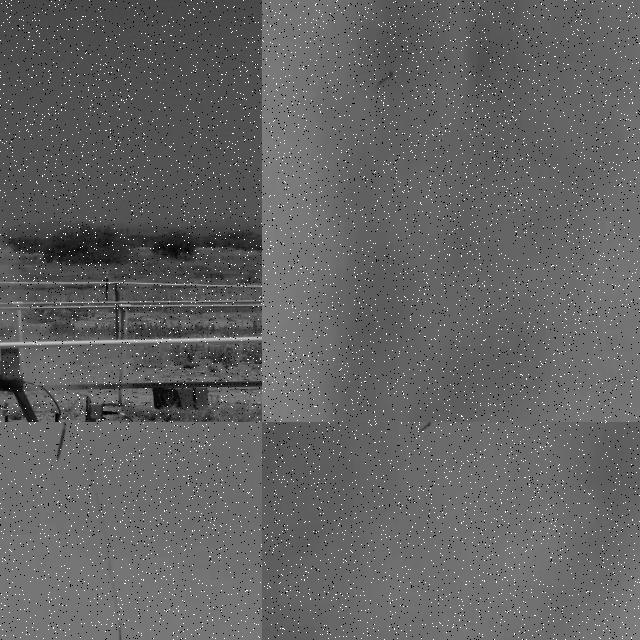Rocket: (376, 69, 393, 86), (117, 621, 126, 640), (418, 422, 431, 433)
